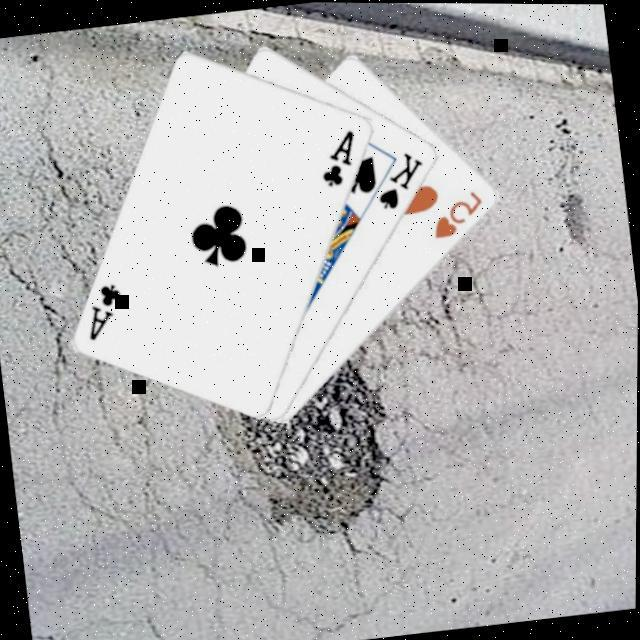5H: (428, 185, 492, 242)
AC: (314, 124, 366, 190), (82, 278, 132, 344)
KS: (372, 146, 434, 214)
